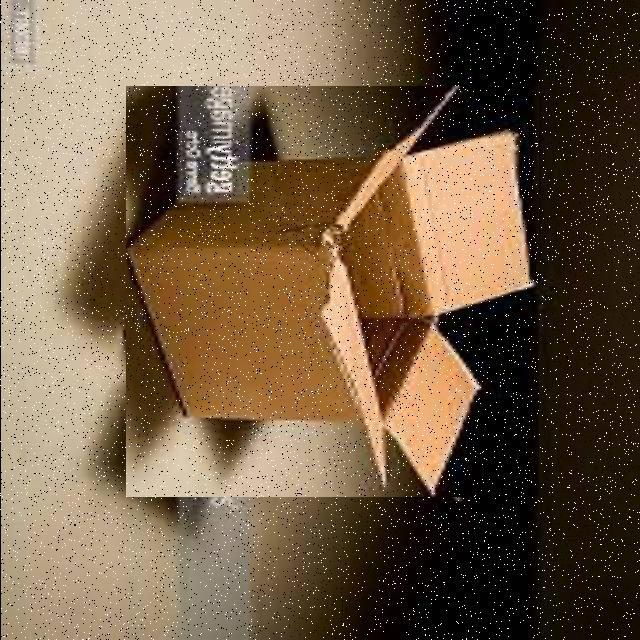defect: (125, 86, 538, 497)
